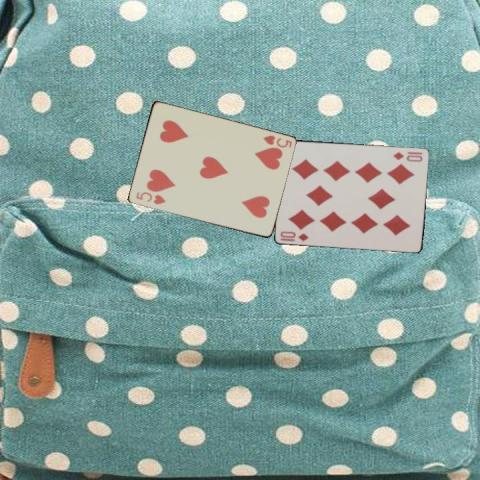10d: (277, 228, 310, 243), (391, 149, 424, 163)
5h: (132, 189, 166, 206), (260, 132, 294, 149)
